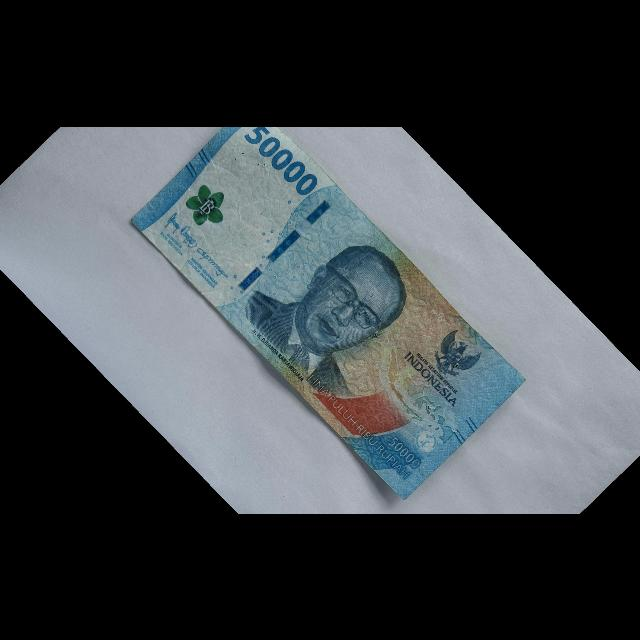Palsu-50k: (125, 96, 530, 503)
Tinta-Palsu-50k: (178, 175, 238, 235)
